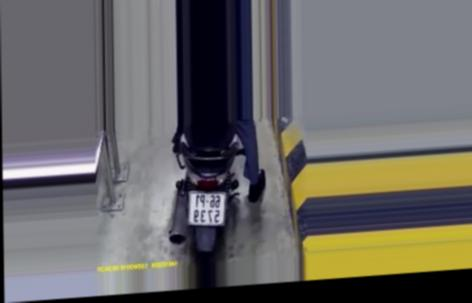License_Plate: (185, 187, 232, 228)
